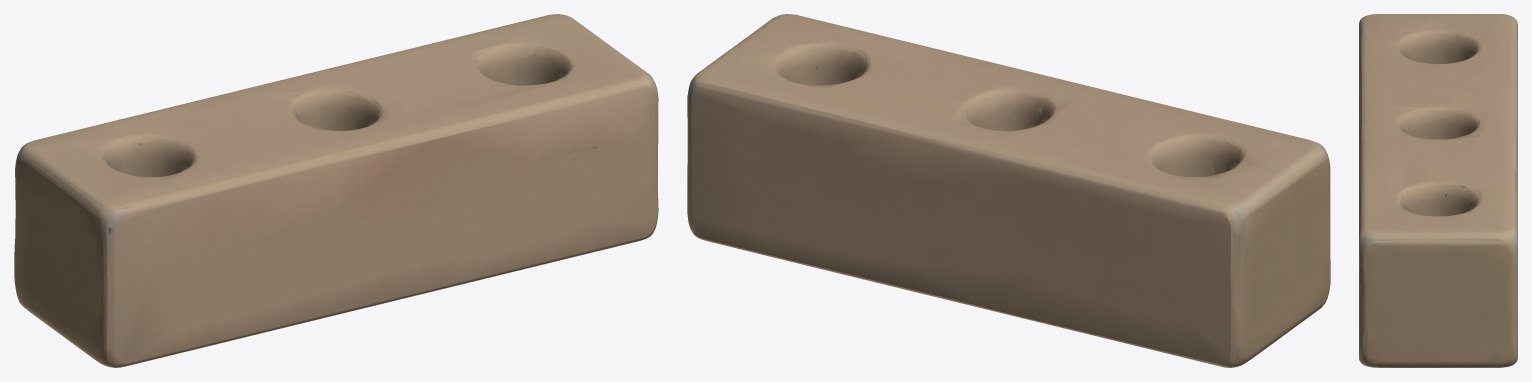
The model's file is The_Pithos_Bench_opt.glb.
3 renders of one model, left to right at view 1: azimuth 30°, elevation 25°; view 2: azimuth 150°, elevation 25°; view 3: azimuth 270°, elevation 25°, orthographic. The views are drawn at different scales.
Visible parts, largest first — view 1: material; view 2: material; view 3: material.
Boxes of the visible parts, <box> form: material: <box>14,14,658,367</box>; material: <box>687,14,1330,367</box>; material: <box>1359,14,1517,367</box>.
Size of the model in its own units: 1.13 by 0.317 by 0.3371.
1 material, 1 textured.
